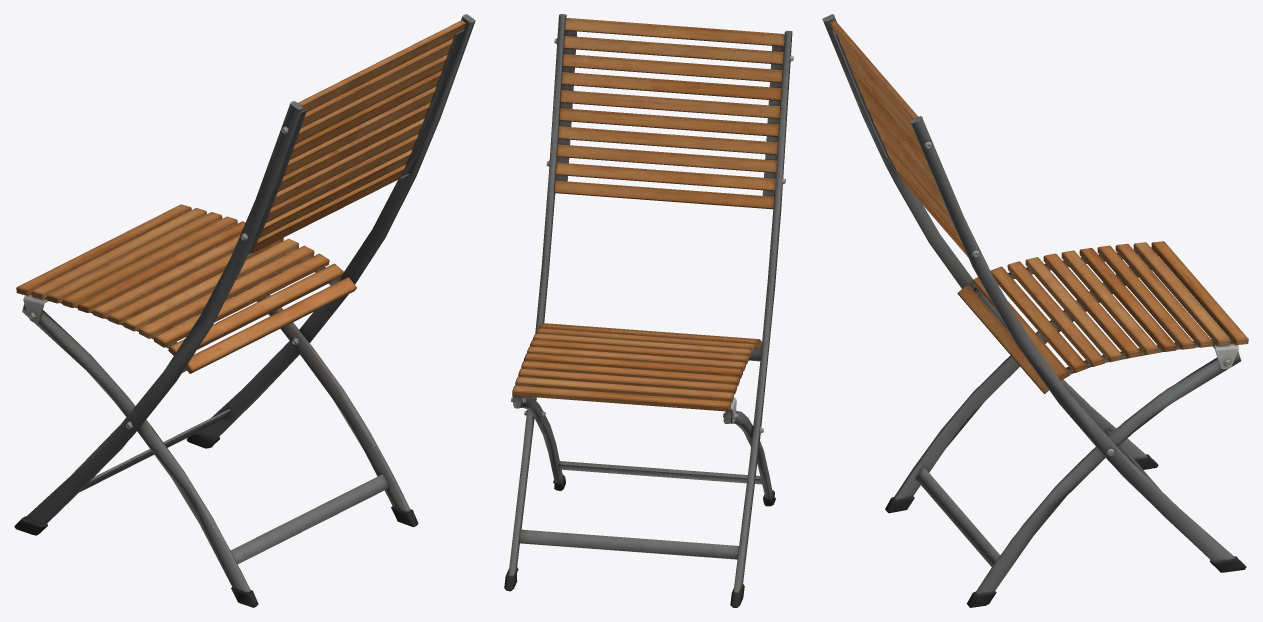
The model's file is cafe-chair.glb.
3 renders of one model, left to right at view 1: azimuth 30°, elevation 25°; view 2: azimuth 150°, elevation 25°; view 3: azimuth 270°, elevation 25°, orthographic. The views are drawn at different scales.
Visible parts, largest first — view 1: cafe-chair; view 2: cafe-chair; view 3: cafe-chair.
Part boxes in pixels (box(x1,y1,x2,y2)): cafe-chair: box(14, 14, 475, 607); cafe-chair: box(504, 14, 793, 607); cafe-chair: box(822, 14, 1248, 607).
Bounding box in the file's own units: 0.5745 × 0.8581 × 0.6614.
1 material, 1 textured.
